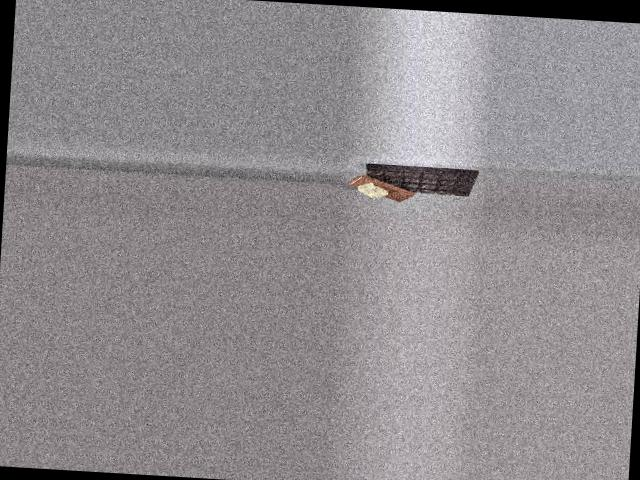chocolate: (357, 159, 479, 201)
